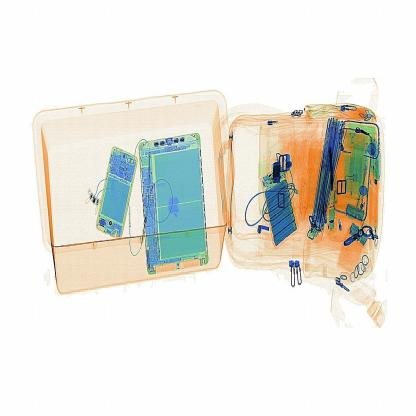knife: (321, 136, 341, 194)
